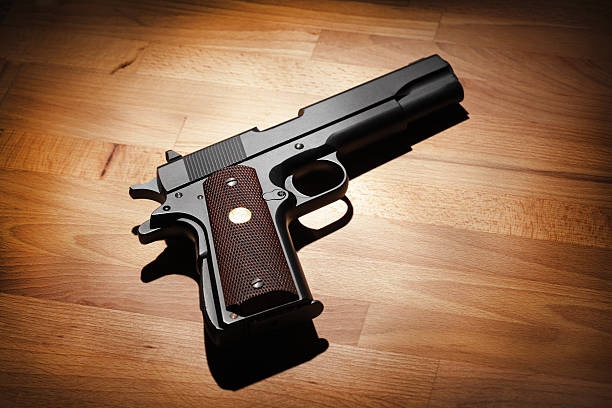gun: (124, 51, 465, 345)
